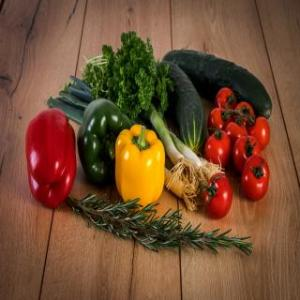bell_pepper: (25, 107, 74, 211), (78, 96, 132, 184), (114, 122, 163, 212)
cucumber: (163, 48, 272, 116), (153, 59, 206, 153)
tomato: (241, 156, 269, 200), (205, 173, 232, 217), (234, 135, 262, 169), (206, 129, 230, 165), (248, 116, 270, 148), (208, 107, 232, 133), (215, 86, 234, 112), (236, 100, 254, 126)
